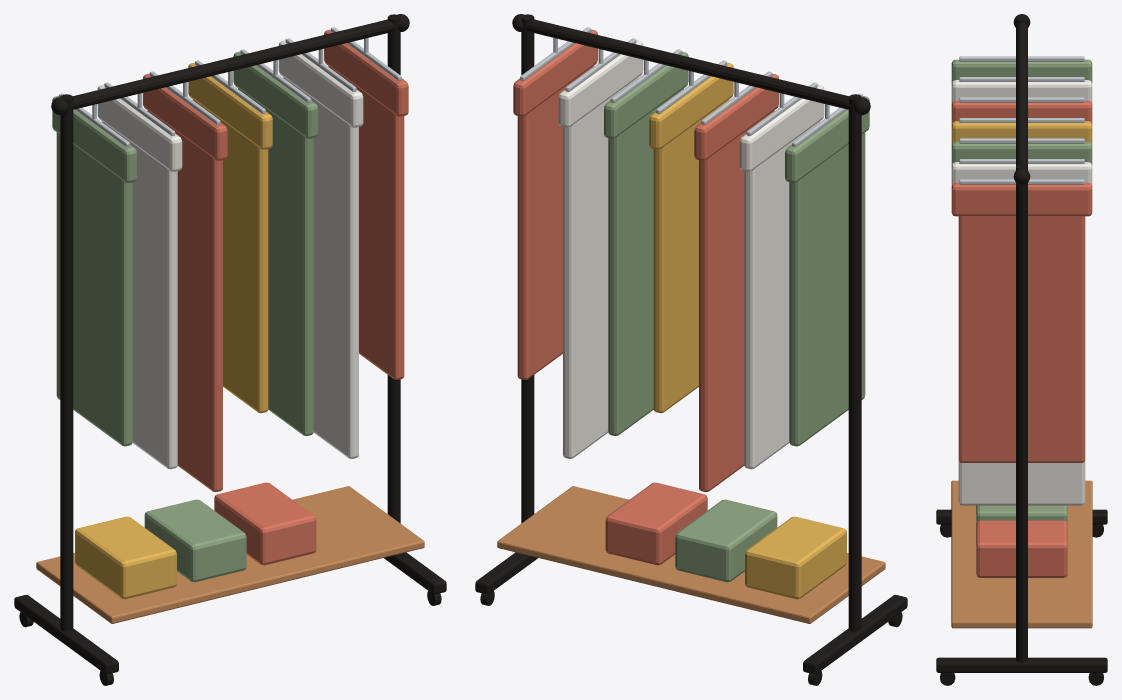
Rendered from hh_cat_clothes_rail.glb.
3 views of the same model, side by side, from view 1: azimuth 30°, elevation 25°; view 2: azimuth 150°, elevation 25°; view 3: azimuth 270°, elevation 25° (orthographic). The views are drawn at different scales.
Visible parts, largest first — view 1: garment, garment.002, garment.005, garment.004, garment.001, shelf, garment.003, garment.006, upright, storage_box, storage_box.002, storage_box.001 (+11 smaller); view 2: garment, garment.002, garment.005, garment.004, garment.001, shelf, garment.003, garment.006, upright, storage_box, storage_box.002, storage_box.001 (+11 smaller); view 3: garment.006, shelf, upright.001, garment.005, storage_box.002, garment_shoulder.006, foot.001, garment_shoulder.001, garment_shoulder.003, garment_shoulder, garment_shoulder.002, garment_shoulder.004 (+11 smaller).
Boxes of the visible parts, x1,y1,x2,y2 form: garment: (56,132,132,446); garment.002: (147,110,222,492); garment.005: (283,77,358,458); garment.004: (238,88,313,435); garment.001: (102,121,177,469); shelf: (36,486,424,623); garment.003: (192,99,268,413); garment.006: (328,66,404,379); upright: (60,94,73,631); storage_box: (75,516,176,599); storage_box.002: (214,482,316,565); storage_box.001: (144,499,246,582); garment: (789,132,865,446); garment.002: (699,110,774,492); garment.005: (563,77,638,458); garment.004: (608,88,683,435); garment.001: (744,121,819,469); shelf: (497,486,885,623); garment.003: (653,99,729,413); garment.006: (517,66,593,379); upright: (848,94,861,631); storage_box: (745,516,846,599); storage_box.002: (605,482,707,565); storage_box.001: (675,499,777,582); garment.006: (958,216,1085,462); shelf: (951,480,1092,628); upright.001: (1016,164,1027,662); garment.005: (958,460,1085,505); storage_box.002: (976,520,1067,577); garment_shoulder.006: (951,182,1092,216); foot.001: (936,657,1107,672); garment_shoulder.001: (951,80,1092,103); garment_shoulder.003: (951,121,1092,144); garment_shoulder: (951,59,1092,82); garment_shoulder.002: (951,100,1092,123); garment_shoulder.004: (951,141,1092,164).
Bounding box in the file's own units: 1 × 1.5 × 0.45.
